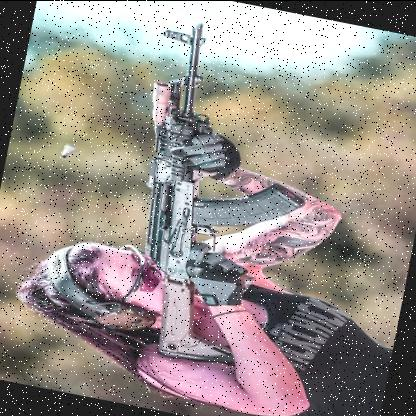rifle: (97, 18, 337, 388)
